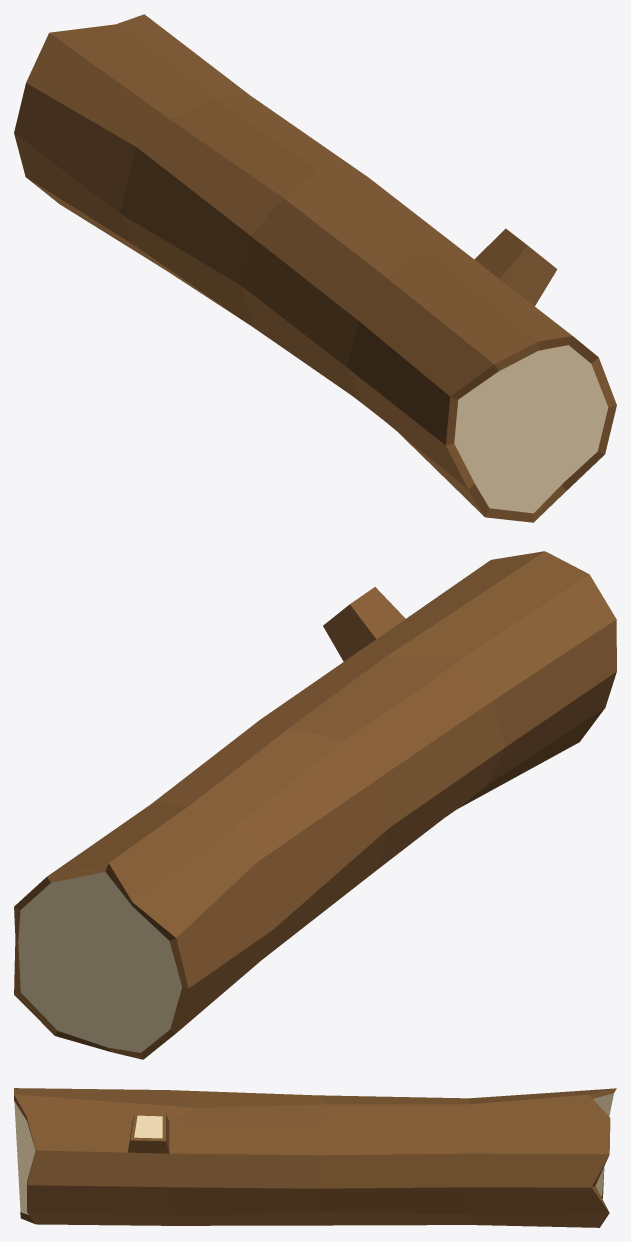
File: Log.fbx
The picture shows the model from 3 angles, top to bottom: view 1: azimuth 30°, elevation 25°; view 2: azimuth 150°, elevation 25°; view 3: azimuth 270°, elevation 25°; orthographic projection. The views are drawn at different scales.
Visible parts, largest first — view 1: Circle.001; view 2: Circle.001; view 3: Circle.001.
Boxes of the visible parts, bbox=[...] form: Circle.001: bbox=[14, 14, 616, 522]; Circle.001: bbox=[14, 551, 616, 1059]; Circle.001: bbox=[14, 1088, 616, 1227].
Bounding box in the file's own units: 434 × 428 × 1757.
